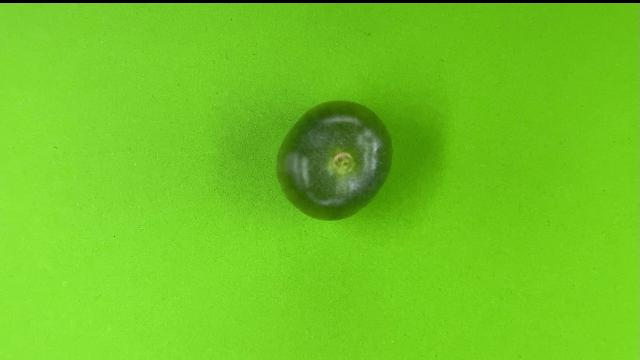Fruit Maturation: (275, 99, 394, 221)
